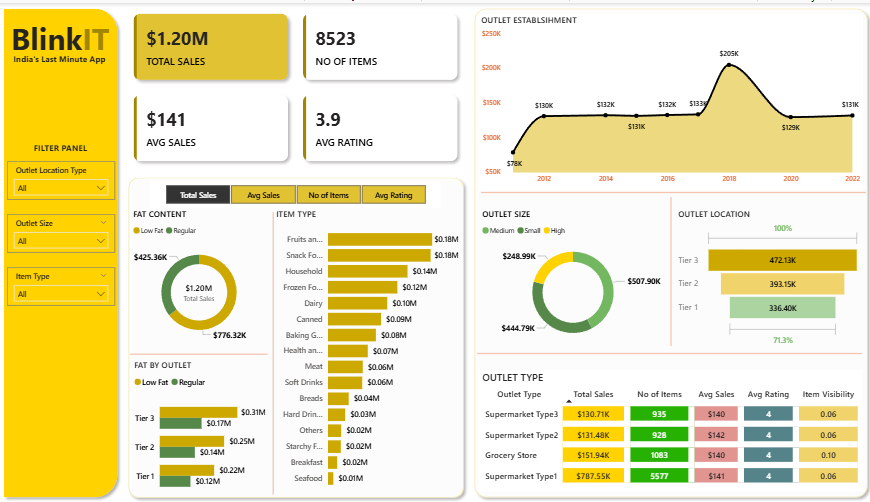

The page's visual inventory and layout, read from the dashboard file:
{"tool":"powerbi","page":{"name":"Page 1","canvas":[1400,800],"ordinal":0},"visuals":[{"type":"shape","box":[0,0,200,800],"z":0},{"type":"textbox","box":[10,18.3,180,75],"z":1000},{"type":"textbox","box":[15,75,168.3,35],"z":2000},{"type":"cardVisual","fields":{"Data":["BlinkIT Grocery Data.Total Sales","BlinkIT Grocery Data.No of Items","BlinkIT Grocery Data.Avg Sales","BlinkIT Grocery Data.Avg Rating"]},"box":[200,0,553.6,270.4],"z":3000},{"type":"shape","box":[200,270,554,530],"z":4000},{"type":"donutChart","title":"FAT CONTENT","fields":{"Y":["BlinkIT Grocery Data.Total Sales"],"Category":["BlinkIT Grocery Data.Item Fat Content"]},"box":[211.2,328,220.8,225.6],"z":5000},{"type":"slicer","fields":{"Values":["Metrics.Metrics"]},"box":[243.3,285,465,43.3],"z":6000},{"type":"cardVisual","fields":{"Data":["BlinkIT Grocery Data.Total Sales"]},"box":[278.3,430,86.7,55],"z":7000},{"type":"clusteredBarChart","title":"FAT BY OUTLET","fields":{"Y":["BlinkIT Grocery Data.Total Sales"],"Category":["BlinkIT Grocery Data.Outlet Location Type"],"Series":["BlinkIT Grocery Data.Item Fat Content"]},"box":[212,570,220,230],"z":8000},{"type":"shape","box":[211.7,553.3,220,16.7],"z":9000},{"type":"shape","box":[431.7,335,16.7,451.7],"z":10000},{"type":"barChart","title":"ITEM TYPE","fields":{"Y":["BlinkIT Grocery Data.Total Sales"],"Category":["BlinkIT Grocery Data.Item Type"]},"box":[440,328.3,301.7,458.3],"z":11000},{"type":"shape","box":[753.3,0,646.7,800],"z":12000},{"type":"lineChart","title":"OUTLET ESTABLSIHMENT","fields":{"Category":["BlinkIT Grocery Data.Outlet Establishment Year"],"Y":["BlinkIT Grocery Data.Total Sales"]},"box":[768,17.6,616,281.6],"z":13000},{"type":"shape","box":[766.4,556.8,616,8],"z":14000},{"type":"donutChart","title":"OUTLET SIZE","fields":{"Y":["BlinkIT Grocery Data.Total Sales"],"Category":["BlinkIT Grocery Data.Outlet Size"]},"box":[769.6,328,300.8,225.6],"z":15000},{"type":"shape","box":[1070.4,310.4,12.8,238.4],"z":16000},{"type":"funnel","title":"OUTLET LOCATION","fields":{"Y":["Sum(BlinkIT Grocery Data.Sales)"],"Category":["BlinkIT Grocery Data.Outlet Location Type"]},"box":[1083.2,328,300.8,225.6],"z":17000},{"type":"shape","box":[772.8,299.2,616,8],"z":18000},{"type":"pivotTable","title":"OUTLET TYPE","fields":{"Rows":["BlinkIT Grocery Data.Outlet Type"],"Values":["BlinkIT Grocery Data.Total Sales","BlinkIT Grocery Data.No of Items","BlinkIT Grocery Data.Avg Sales","BlinkIT Grocery Data.Avg Rating","Avg(BlinkIT Grocery Data.Item Visibility)"]},"box":[769.6,587.2,614.4,193.6],"z":19000},{"type":"slicer","fields":{"Values":["BlinkIT Grocery Data.Outlet Location Type"]},"box":[14.4,252.8,172.8,62.4],"z":20000},{"type":"slicer","fields":{"Values":["BlinkIT Grocery Data.Outlet Size"]},"box":[14.4,337.6,172.8,62.4],"z":21000},{"type":"slicer","fields":{"Values":["BlinkIT Grocery Data.Item Type"]},"box":[14.4,422.4,172.8,62.4],"z":22000},{"type":"textbox","box":[44.8,217.6,110.4,35.2],"z":23000}]}

Visuals, with their boxes in screenshot pixels (x1, y1, x2, y2), scaled from the page's 1400x800 canvas onto the 870x502 screenshot:
shape: 0, 0, 124, 501
textbox: 6, 11, 118, 59
textbox: 9, 47, 114, 69
cardVisual - BlinkIT Grocery Data.Total Sales x BlinkIT Grocery Data.No of Items: 124, 0, 468, 170
shape: 124, 169, 469, 501
"FAT CONTENT" donutChart: 131, 206, 268, 347
slicer - Metrics.Metrics: 151, 179, 440, 206
cardVisual - BlinkIT Grocery Data.Total Sales: 173, 270, 227, 304
"FAT BY OUTLET" clusteredBarChart: 132, 358, 268, 501
shape: 132, 347, 268, 358
shape: 268, 210, 279, 494
"ITEM TYPE" barChart: 273, 206, 461, 494
shape: 468, 0, 869, 501
"OUTLET ESTABLSIHMENT" lineChart: 477, 11, 860, 188
shape: 476, 349, 859, 354
"OUTLET SIZE" donutChart: 478, 206, 665, 347
shape: 665, 195, 673, 344
"OUTLET LOCATION" funnel: 673, 206, 860, 347
shape: 480, 188, 863, 193
"OUTLET TYPE" pivotTable: 478, 368, 860, 490
slicer - BlinkIT Grocery Data.Outlet Location Type: 9, 159, 116, 198
slicer - BlinkIT Grocery Data.Outlet Size: 9, 212, 116, 251
slicer - BlinkIT Grocery Data.Item Type: 9, 265, 116, 304
textbox: 28, 137, 96, 159
